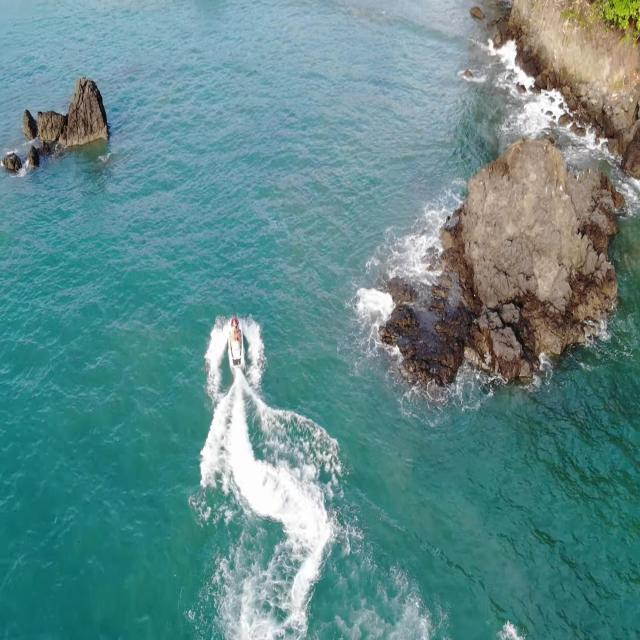boat: (225, 316, 245, 368)
